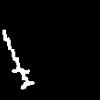double_crochet: (3, 30, 33, 88)
